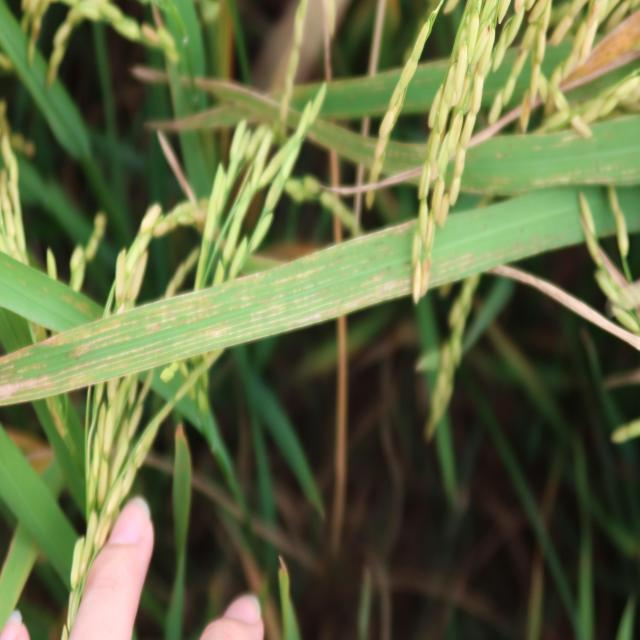Dom soc vi khuan: (64, 333, 132, 360), (0, 376, 56, 405), (359, 277, 411, 303), (39, 326, 98, 346), (275, 265, 327, 283), (105, 345, 147, 361), (145, 316, 177, 335), (99, 320, 139, 334), (285, 312, 320, 327), (203, 325, 231, 338), (361, 273, 383, 286), (294, 292, 318, 303), (342, 299, 359, 313), (250, 316, 261, 322)
